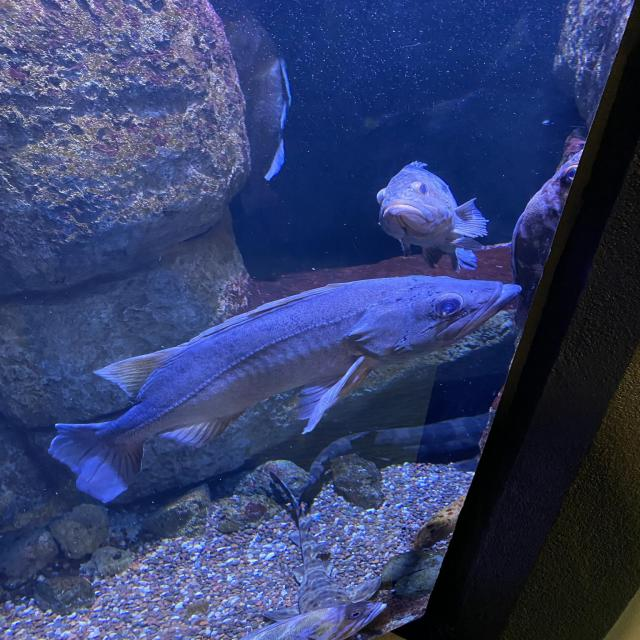fish: (50, 275, 524, 504), (513, 147, 589, 330), (376, 160, 488, 272), (234, 54, 288, 214), (242, 601, 388, 640)
shark: (296, 410, 500, 510), (264, 470, 381, 640)
